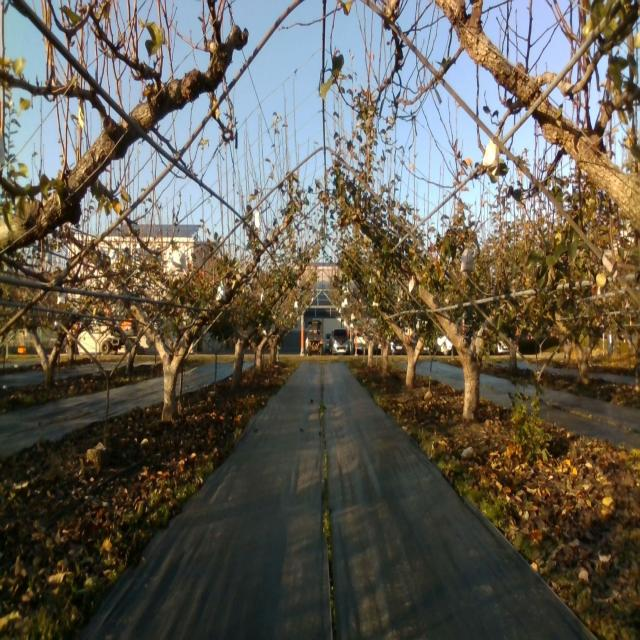pearbags: (482, 140, 500, 180), (167, 249, 187, 274), (460, 247, 476, 274), (215, 280, 227, 302)
